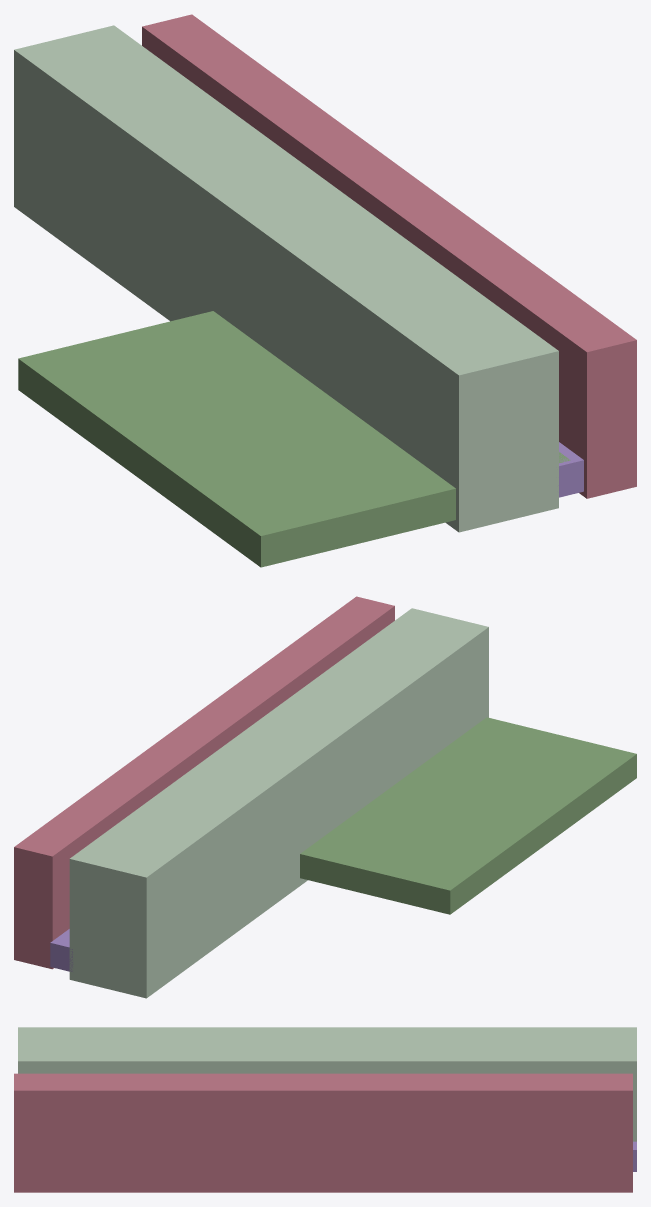
The model's file is 199507_pred.glb.
3 renders of one model, top to bottom at view 1: azimuth 30°, elevation 25°; view 2: azimuth 150°, elevation 25°; view 3: azimuth 270°, elevation 25°, orthographic. The views are drawn at different scales.
Parts seen in each view (by area): view 1: world; view 2: world; view 3: world.
Boxes of the visible parts, x1=… form: world: x1=14, y1=14, x2=636, y2=567; world: x1=14, y1=596, x2=636, y2=998; world: x1=14, y1=1027, x2=636, y2=1192.
Size of the model in its own units: 3.7 by 1.5 by 7.75.
